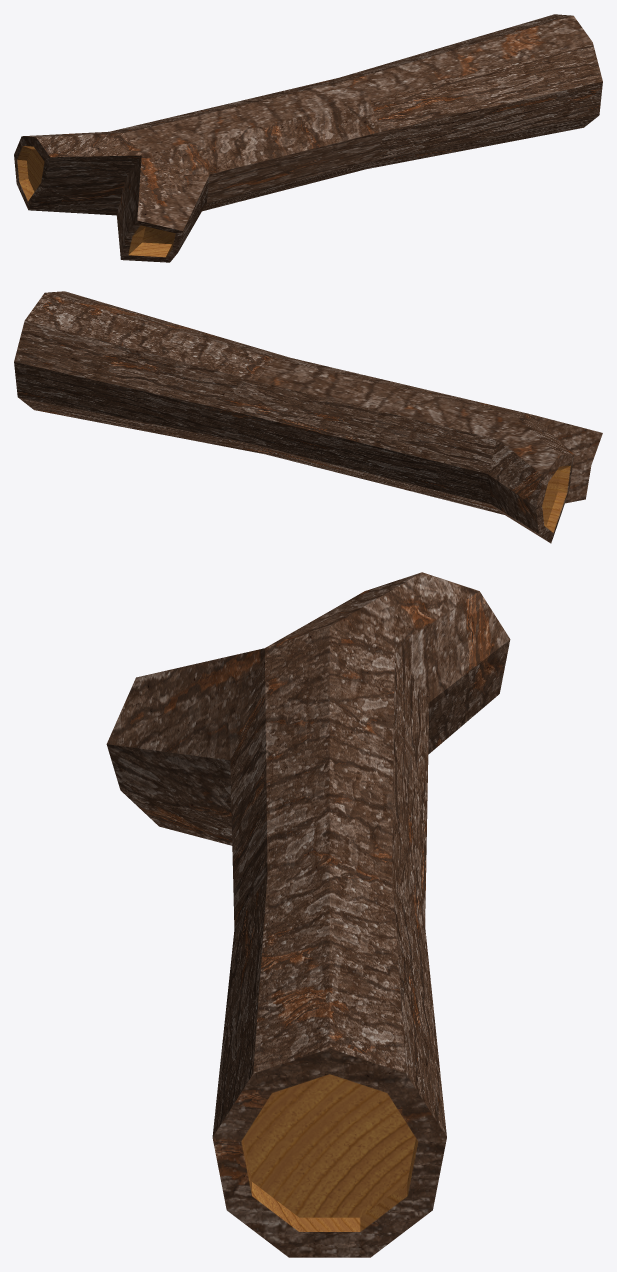
The model's file is Tornmai.fbx.
3 renders of one model, top to bottom at view 1: azimuth 30°, elevation 25°; view 2: azimuth 150°, elevation 25°; view 3: azimuth 270°, elevation 25°, orthographic. The views are drawn at different scales.
Parts seen in each view (by area): view 1: TornMai; view 2: TornMai; view 3: TornMai.
Boxes of the visible parts, x1,y1,x2,y2 form: TornMai: (14,14,602,262); TornMai: (14,291,602,543); TornMai: (106,572,510,1257).
Size of the model in its own units: 13.17 by 2.61 by 4.46.
